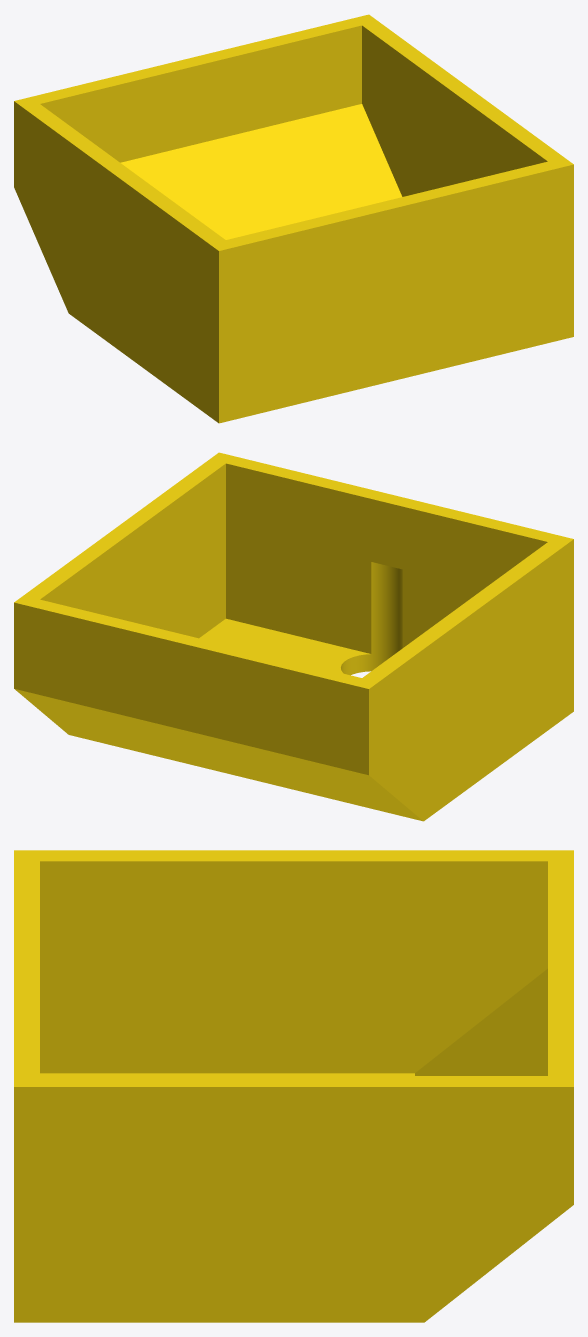
3 views of the same model, one above another, from view 1: azimuth 30°, elevation 25°; view 2: azimuth 150°, elevation 25°; view 3: azimuth 270°, elevation 25° (orthographic). The views are drawn at different scales.
Visible parts, largest first — view 1: mesh32566, mesh32567, mesh32578, mesh32579, mesh32576, mesh32575; view 2: mesh32573, mesh32567, mesh32569, mesh32576, mesh32575, mesh32570, mesh32574, mesh32571; view 3: mesh32568, mesh32577, mesh32575, mesh32579, mesh32574.
Boxes of the visible parts, bbox=[...] form: mesh32566: bbox=[219, 164, 573, 423]; mesh32567: bbox=[14, 101, 218, 423]; mesh32578: bbox=[40, 25, 361, 162]; mesh32579: bbox=[120, 104, 402, 239]; mesh32576: bbox=[362, 25, 547, 196]; mesh32575: bbox=[14, 14, 573, 250]; mesh32573: bbox=[226, 463, 547, 653]; mesh32567: bbox=[369, 539, 573, 821]; mesh32569: bbox=[14, 602, 368, 775]; mesh32576: bbox=[40, 463, 225, 638]; mesh32575: bbox=[14, 452, 573, 688]; mesh32570: bbox=[15, 689, 422, 821]; mesh32574: bbox=[199, 618, 369, 673]; mesh32571: bbox=[341, 562, 402, 675]; mesh32568: bbox=[14, 1087, 573, 1322]; mesh32577: bbox=[40, 861, 547, 1073]; mesh32575: bbox=[14, 850, 573, 1086]; mesh32579: bbox=[415, 968, 547, 1075]; mesh32574: bbox=[40, 1073, 414, 1075].
Bounding box in the file's own units: 0.0431 × 0.02 × 0.0431.
